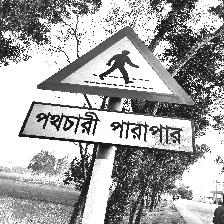Pedestrian-crossing: (21, 27, 197, 154)
